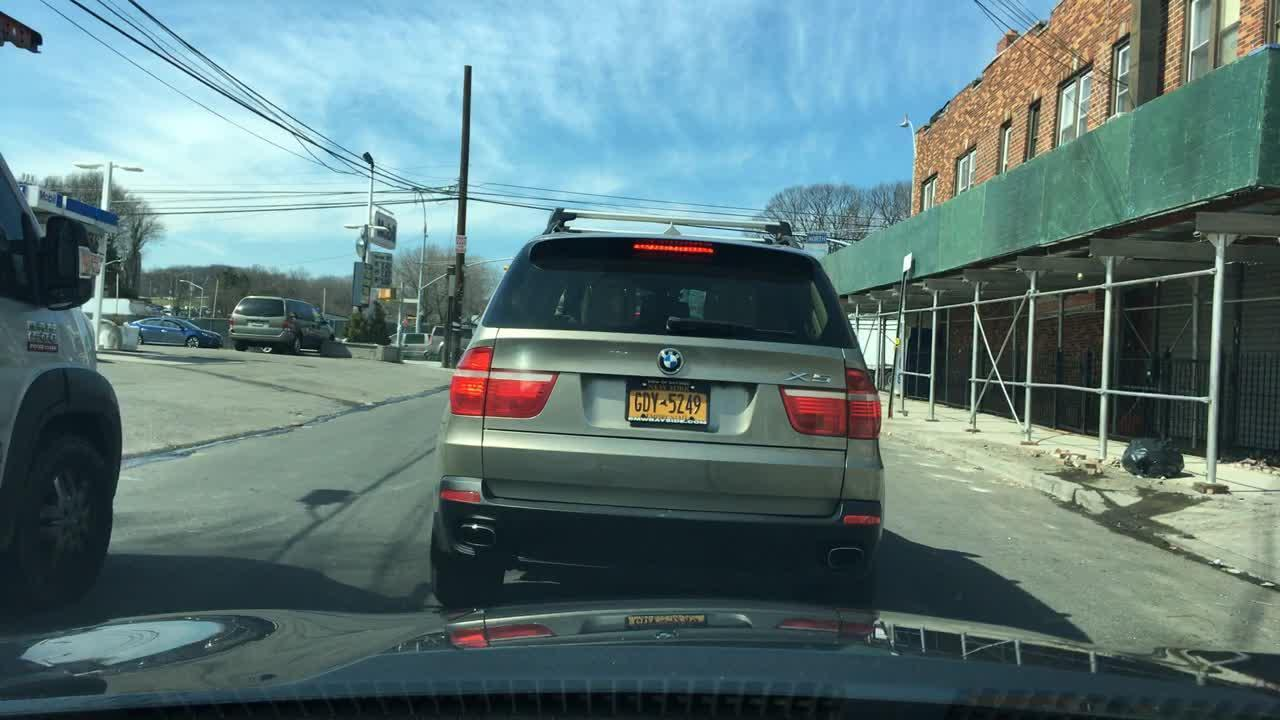bmw: (645, 342, 696, 376)
